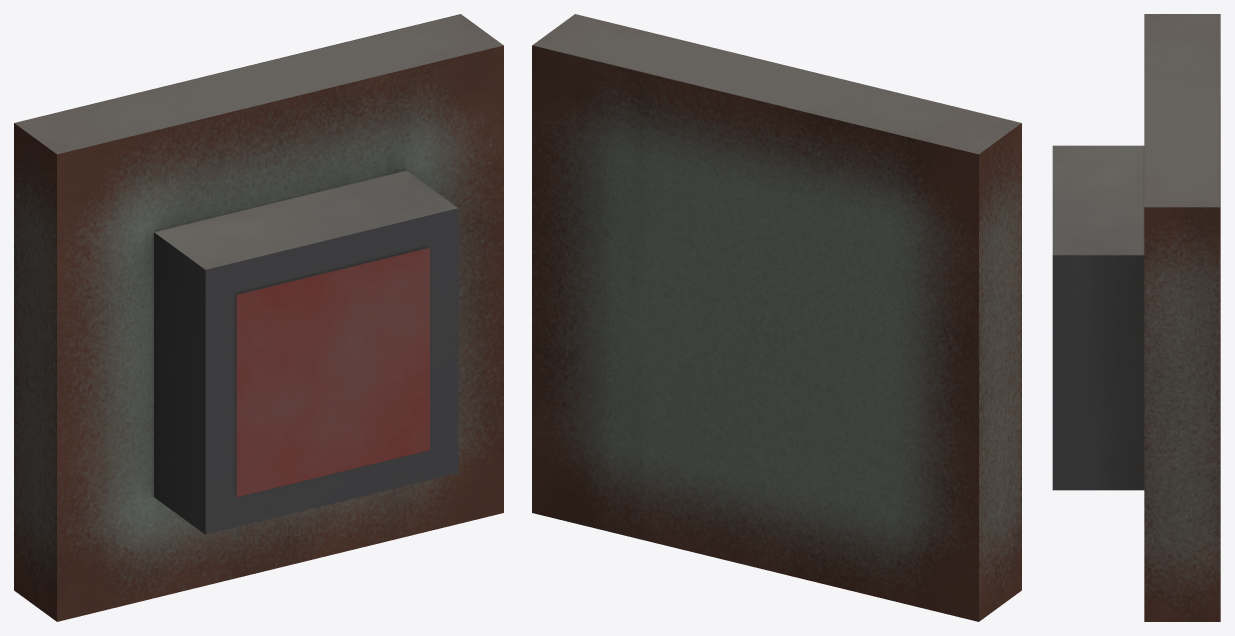
Rendered from SM_IndicatorLamp.fbx.
3 views of the same model, side by side, from view 1: azimuth 30°, elevation 25°; view 2: azimuth 150°, elevation 25°; view 3: azimuth 270°, elevation 25° (orthographic). The views are drawn at different scales.
Parts seen in each view (by area): view 1: SM_IndicatorLamp; view 2: SM_IndicatorLamp; view 3: SM_IndicatorLamp.
Part boxes in pixels (x1,y1,x2,y2): SM_IndicatorLamp: (14,14,503,621); SM_IndicatorLamp: (532,14,1021,621); SM_IndicatorLamp: (1052,14,1220,621).
Bounding box in the file's own units: 0.06 × 0.06 × 0.0223.
1 material, 1 textured.
